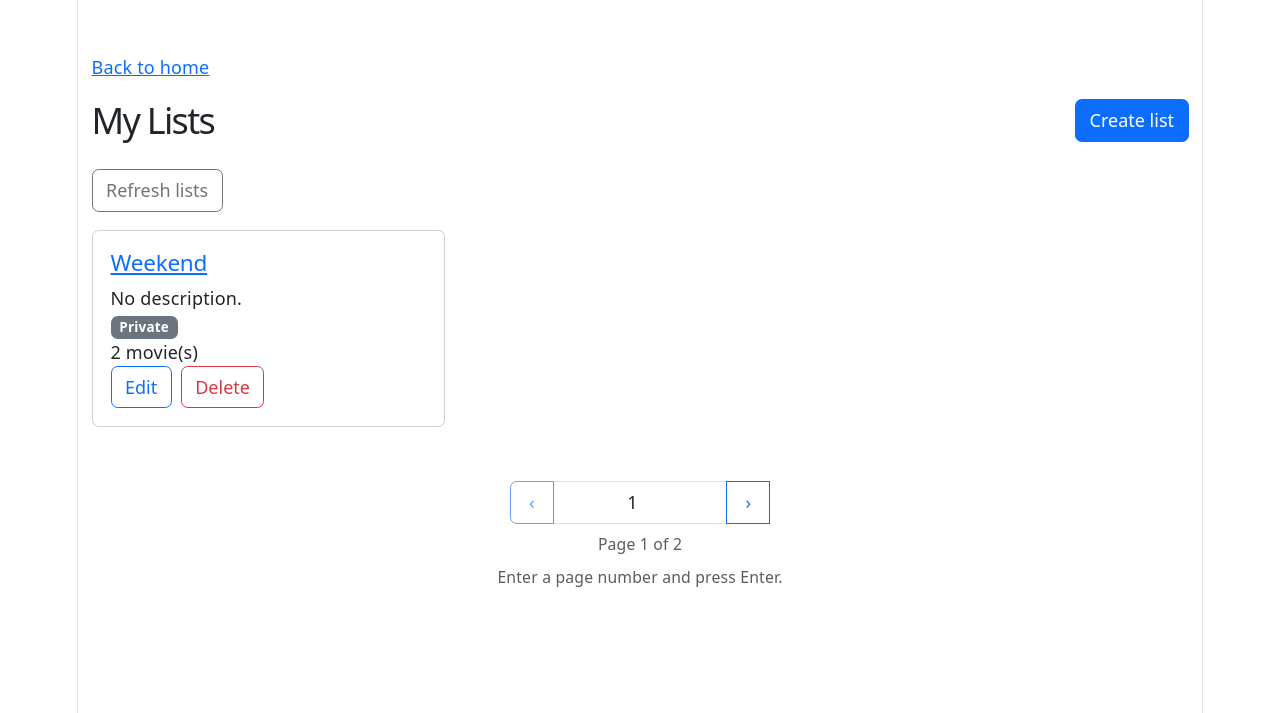
Test: requires confirmation, supports cancellation, and recovers after deleting the last list on a page
Expected: the element "Weekend" is shown, top-left (92, 230), bottom-right (445, 427)
What coordinates should you click on to do the following:
click the button named "Next"
I would click on:
 (748, 503)
Its box is top-left (726, 481), bottom-right (770, 524).
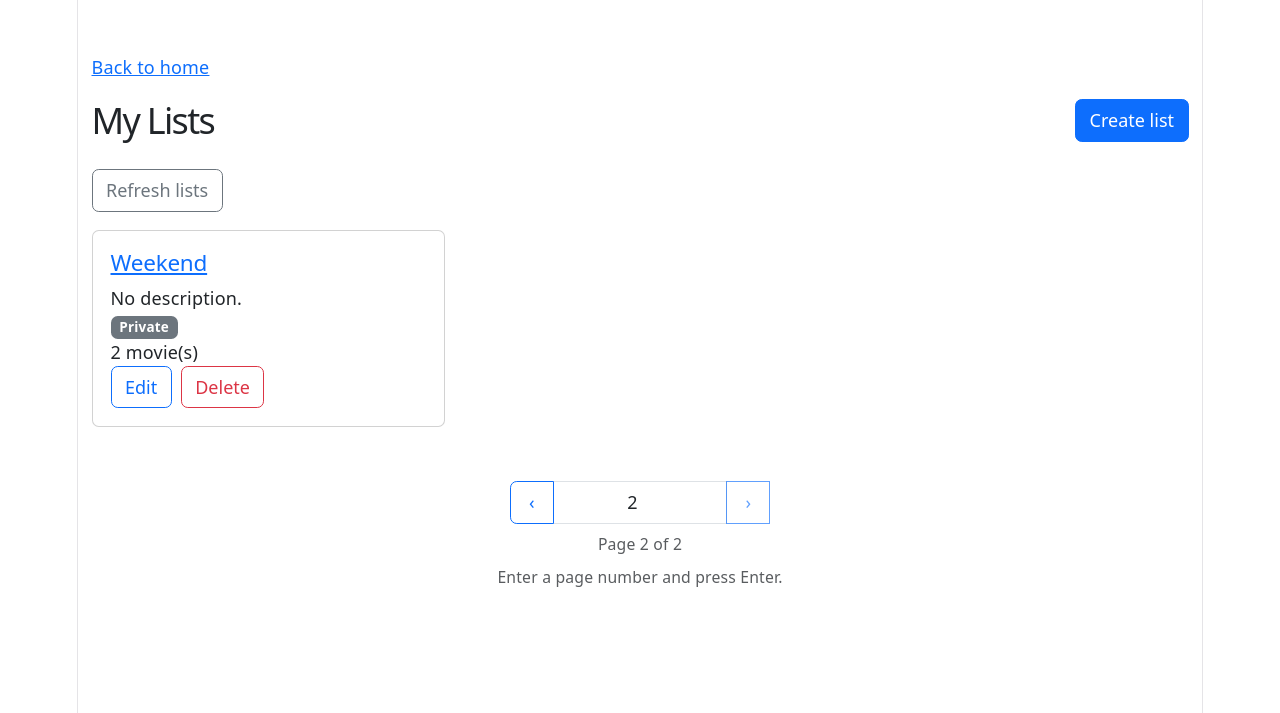
Now the text "Page 2 of 2" is shown, box top-left (598, 533), bottom-right (682, 556)
What coordinates should you click on to do the following:
click the button "Delete"
I would click on:
 (223, 387)
Its box is top-left (181, 366), bottom-right (264, 408).
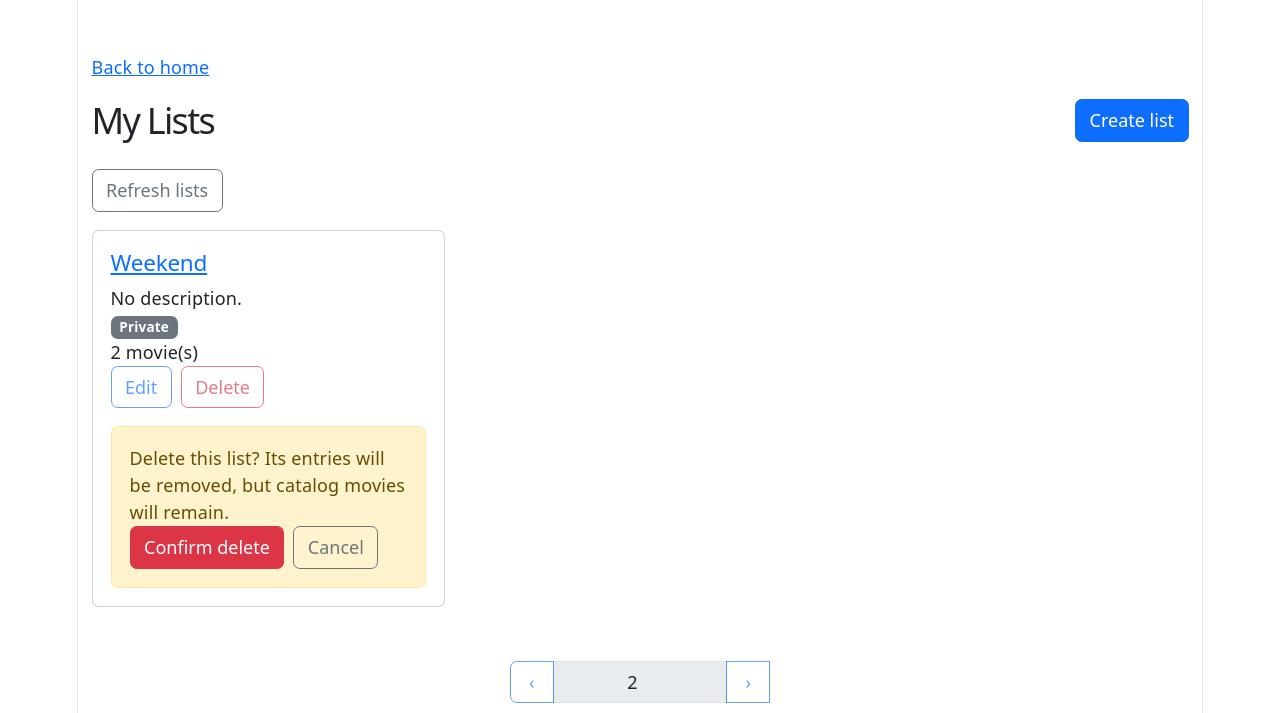
What coordinates should you click on to do the following:
click the button "Cancel"
I would click on:
 (336, 548)
Its box is top-left (293, 526), bottom-right (378, 569).
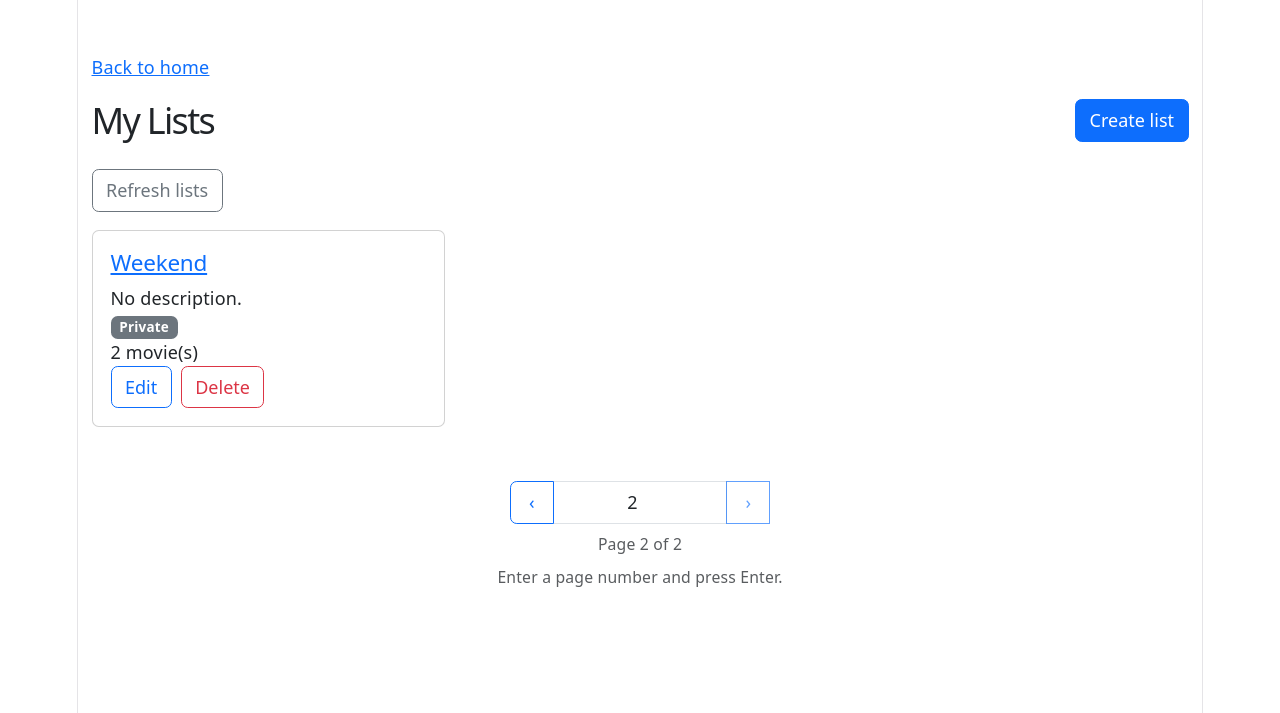
Now the button "Confirm delete" is gone
What coordinates should you click on to do the following:
click the button "Delete"
I would click on:
 (223, 387)
Its box is top-left (181, 366), bottom-right (264, 408).
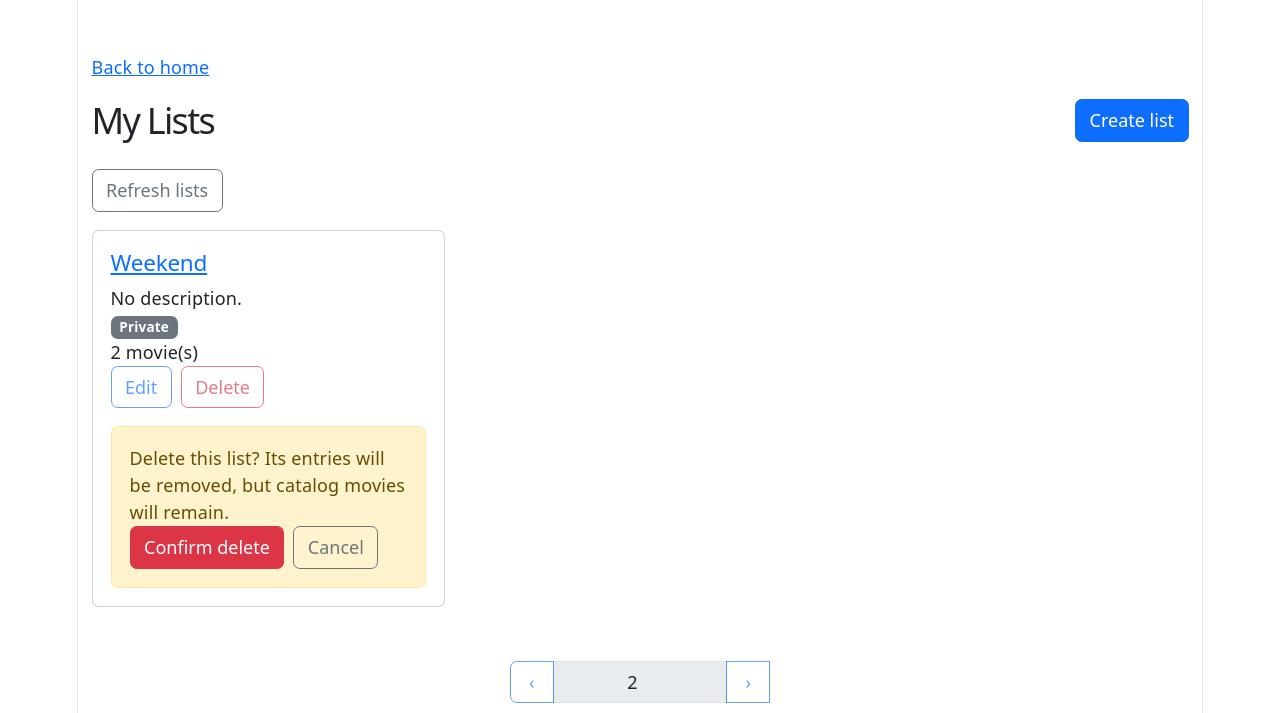
What coordinates should you click on to do the following:
click the button "Confirm delete"
I would click on:
 (207, 548)
Its box is top-left (130, 526), bottom-right (284, 569).
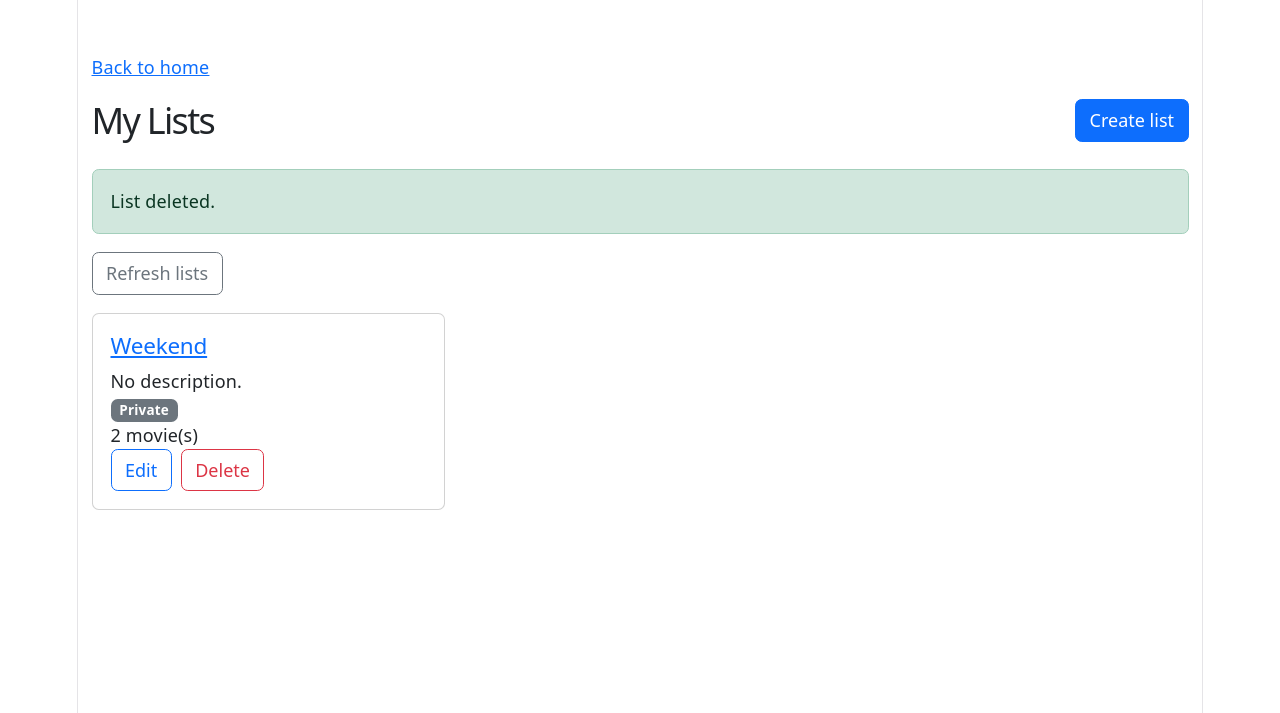
Expected: the element "Weekend" is shown, top-left (92, 313), bottom-right (445, 510)
Now the text "List deleted." is shown, box top-left (92, 169), bottom-right (1188, 234)
